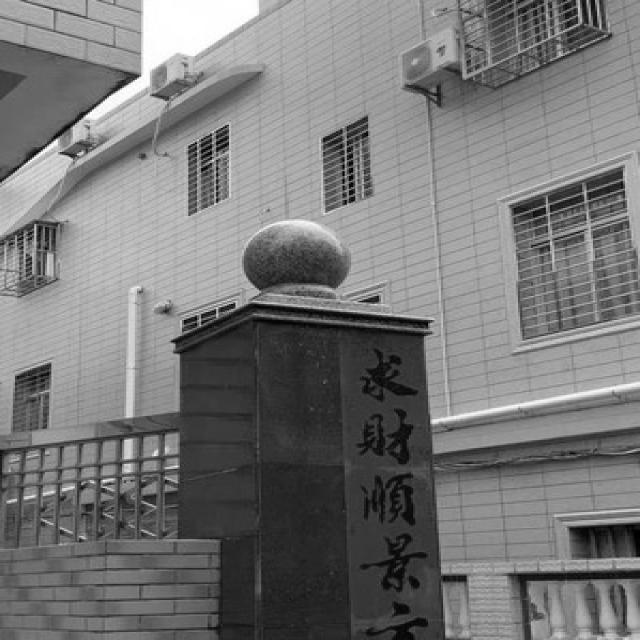spherical_roadblock: (238, 216, 351, 298)
